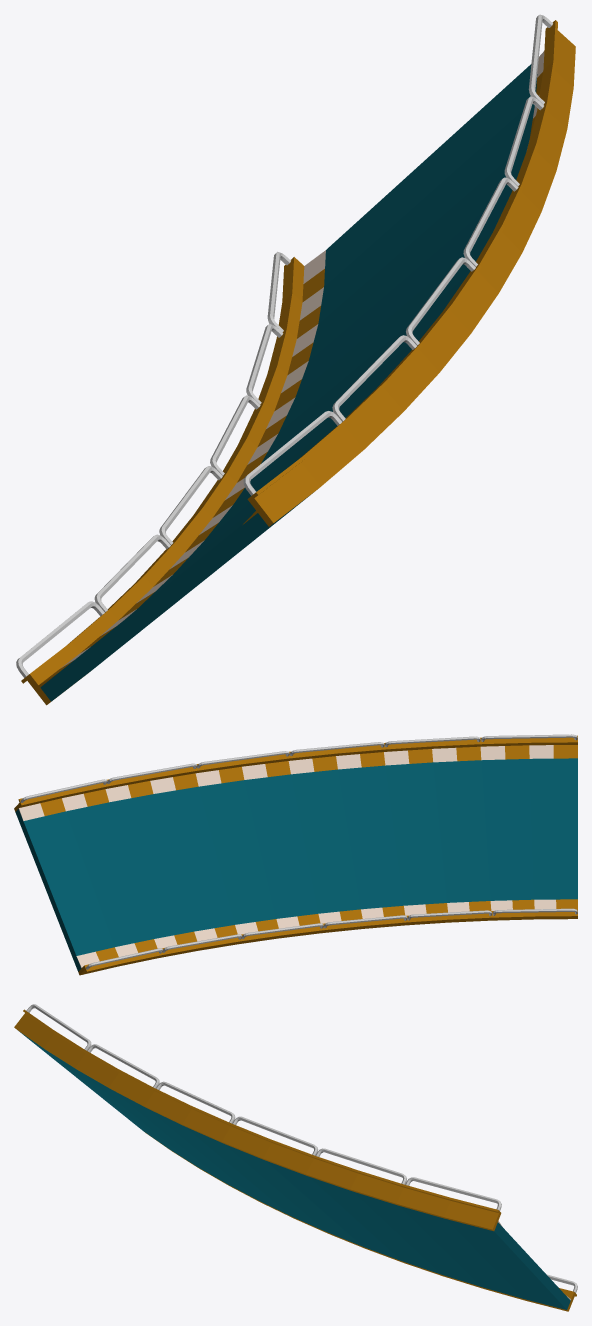
File: bankedRight-30-45_l.FBX
The picture shows the model from 3 angles, top to bottom: view 1: azimuth 30°, elevation 25°; view 2: azimuth 150°, elevation 25°; view 3: azimuth 270°, elevation 25°; orthographic projection. The views are drawn at different scales.
Visible parts, largest first — view 1: bankedRight-30-45_l, wall_l, wall_r, curbs_r; view 2: bankedRight-30-45_l, curbs_l, wall_l, curbs_r, wall_r; view 3: bankedRight-30-45_l, wall_l, wall_r.
Boxes of the visible parts, x1,y1,x2,y2 form: bankedRight-30-45_l: [40, 64, 537, 701]; wall_l: [243, 14, 575, 526]; wall_r: [16, 251, 304, 705]; curbs_r: [38, 250, 325, 687]; bankedRight-30-45_l: [15, 758, 577, 971]; curbs_l: [18, 745, 577, 820]; wall_l: [14, 734, 577, 811]; curbs_r: [76, 899, 577, 968]; wall_r: [78, 908, 577, 975]; bankedRight-30-45_l: [19, 1031, 570, 1309]; wall_l: [14, 1004, 501, 1231]; wall_r: [145, 1132, 577, 1311].
Size of what is drawn, in the model's own units: 525 by 163 by 525.
